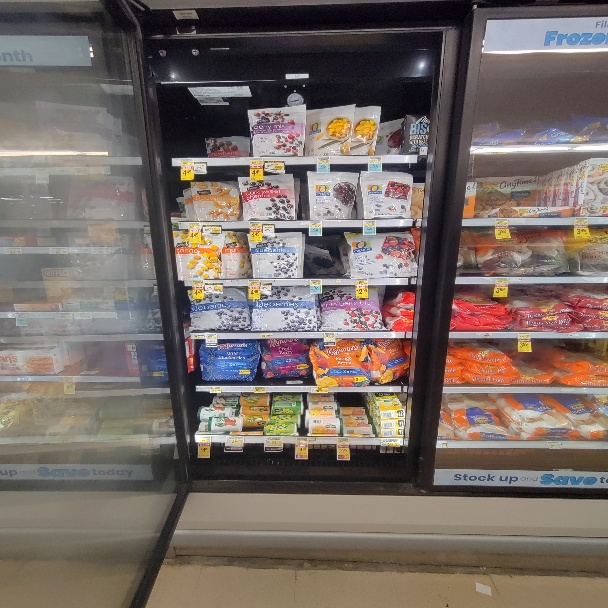All PRICE TAGS: (265, 161, 285, 171), (381, 438, 401, 447), (265, 436, 283, 445), (203, 225, 222, 233), (227, 436, 244, 444), (250, 157, 264, 166), (316, 156, 331, 163), (249, 221, 262, 229), (195, 162, 206, 171), (336, 437, 350, 444), (368, 155, 382, 162), (548, 441, 560, 449), (495, 277, 508, 284), (495, 219, 508, 226), (181, 159, 194, 166), (188, 222, 201, 229), (308, 278, 323, 284), (263, 225, 274, 233), (311, 388, 328, 393), (296, 437, 310, 443), (254, 386, 266, 393), (355, 278, 369, 284), (518, 333, 530, 340), (192, 280, 204, 287), (575, 218, 587, 225), (308, 221, 322, 227), (249, 279, 261, 286), (205, 332, 218, 338), (363, 220, 376, 226), (200, 436, 211, 443), (260, 332, 275, 337), (210, 387, 220, 393), (323, 332, 334, 337)
